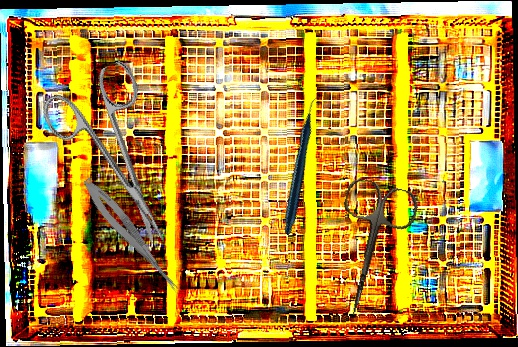Handpiece: (232, 95, 374, 236)
Iris Scissors: (35, 58, 200, 264), (316, 175, 422, 325)
Micro Scissor: (77, 174, 189, 298)
